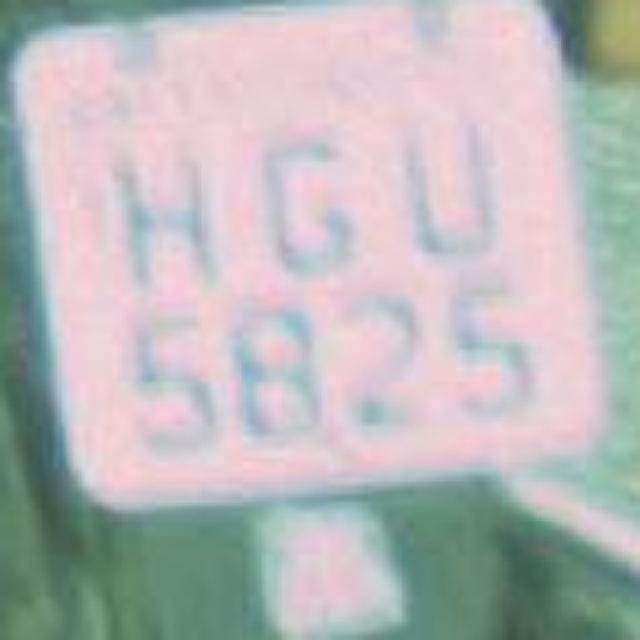2: (308, 260, 448, 448)
5: (104, 296, 236, 476), (432, 248, 560, 424)
B: (208, 272, 352, 456)
U: (368, 84, 520, 271)
